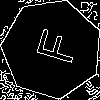F: (26, 24, 80, 67)
